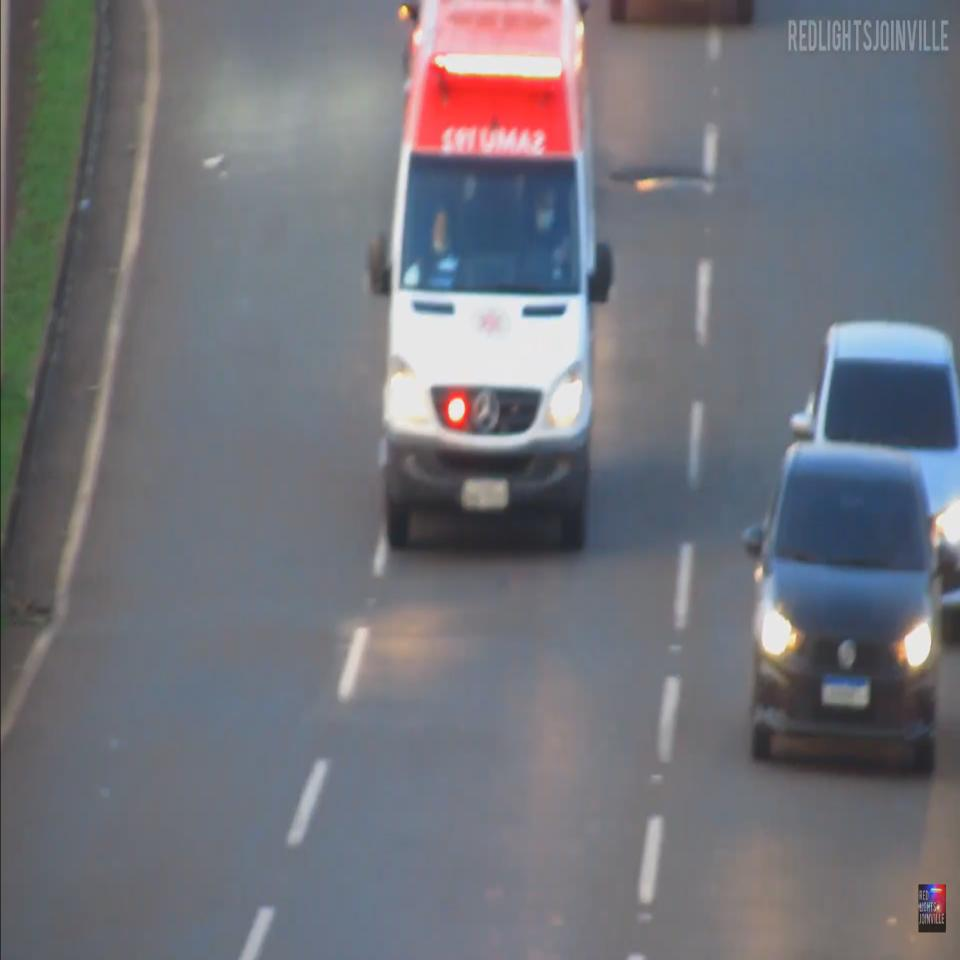bombeiro: (367, 0, 615, 552)
